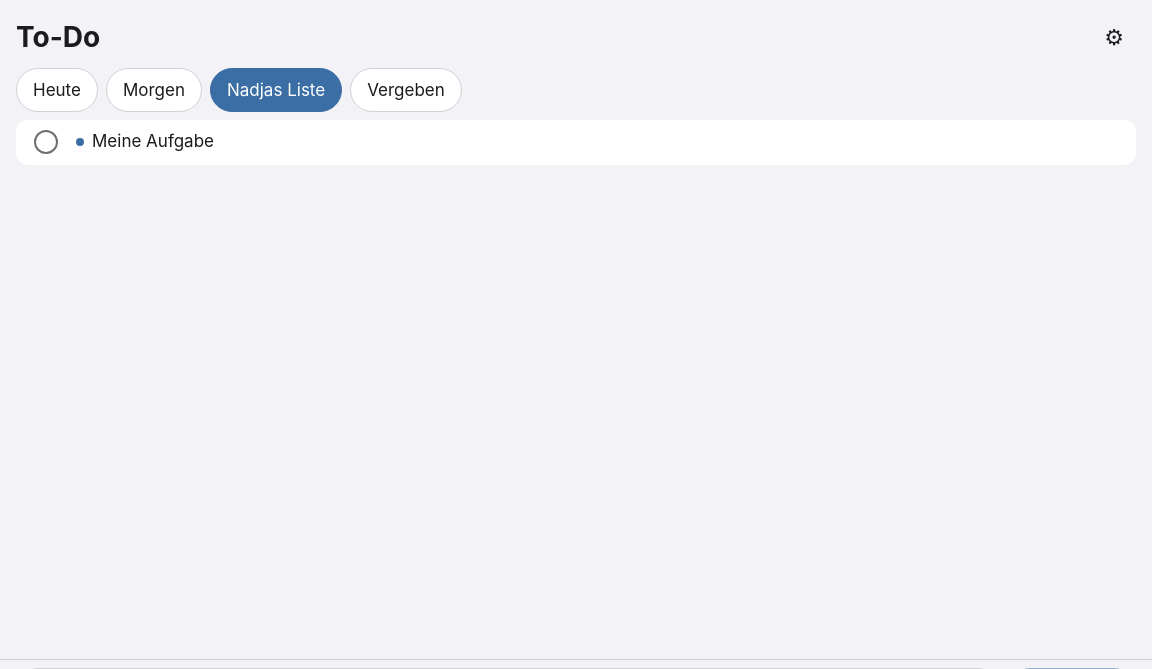
Test case: App with two people › names the creator in the task detail
The width and height of the screenshot is (1152, 669).
Step 1. Click the button "Meine Aufgabe" → (153, 141), box [92,120,1136,165]
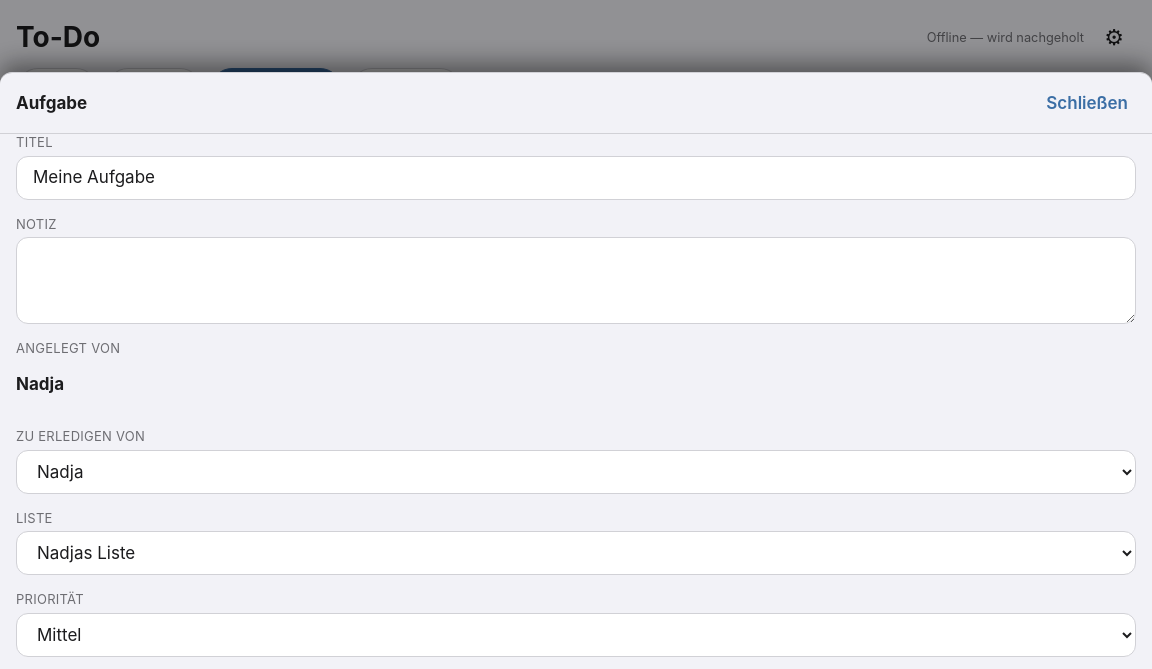
Expected: the text "Angelegt von" shows "Nadja", [16,374,64,394]
